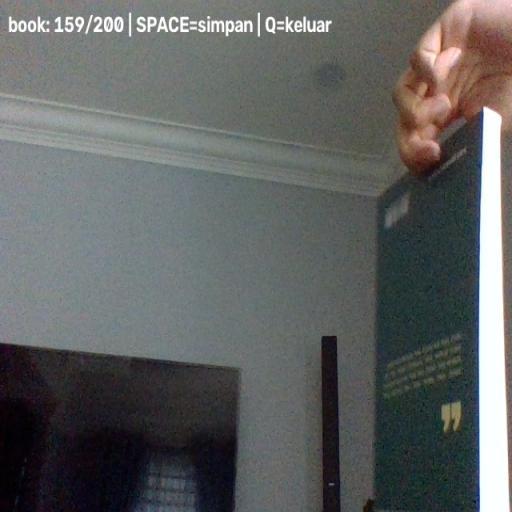Book: (371, 104, 509, 512)
